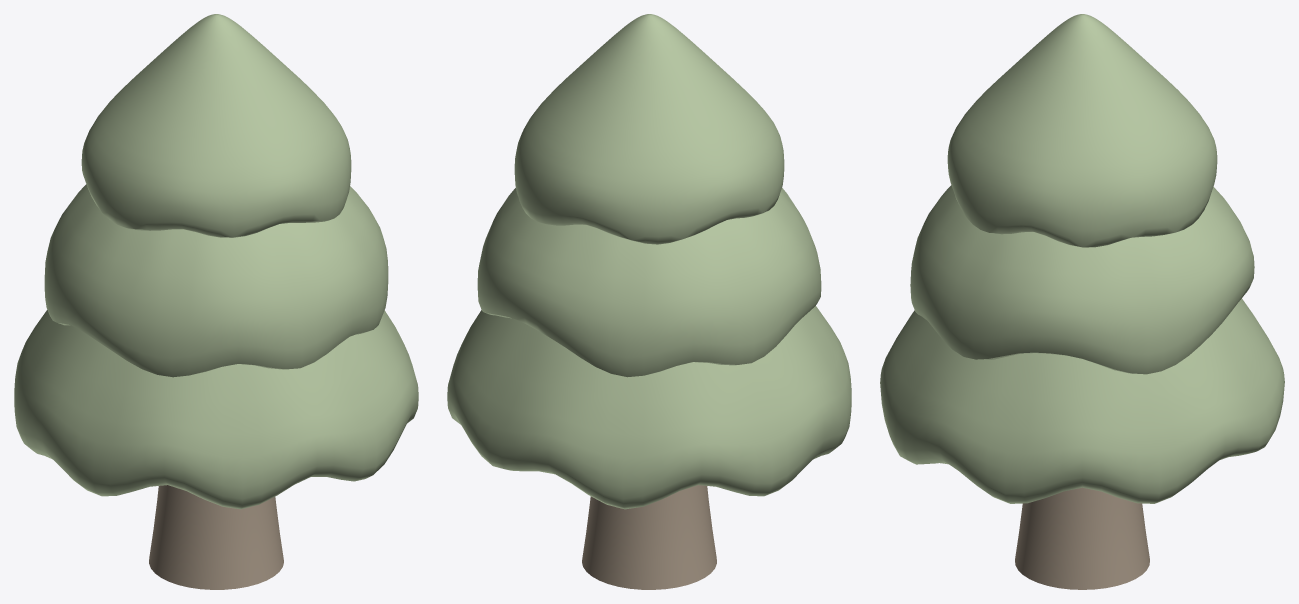
Rendered from tree1.glb.
3 renders of one model, left to right at view 1: azimuth 30°, elevation 25°; view 2: azimuth 150°, elevation 25°; view 3: azimuth 270°, elevation 25°, orthographic.
Parts seen in each view (by area): view 1: 나무1; view 2: 나무1; view 3: 나무1.
Part boxes in pixels (box(x1,y1,x2,y2)): 나무1: box(14, 14, 418, 589); 나무1: box(447, 14, 851, 589); 나무1: box(880, 14, 1284, 589).
Size of the model in its own units: 0.7486 by 1.12 by 0.7486.
